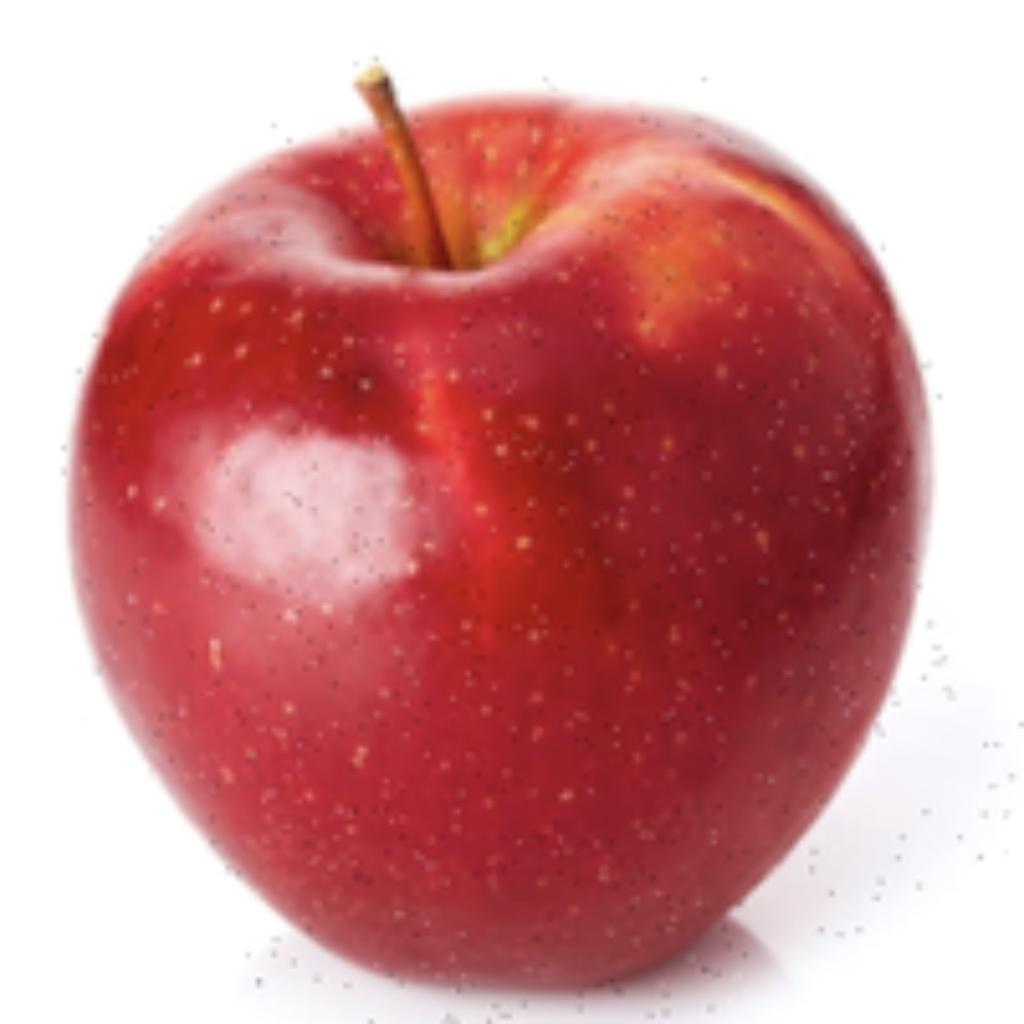apple: (56, 51, 942, 1019)
